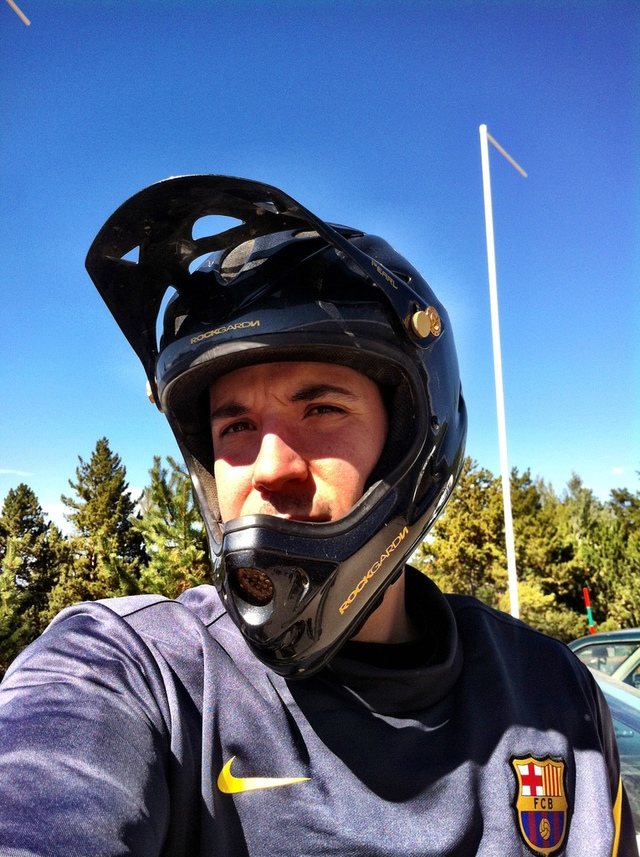helmet: (141, 242, 475, 588)
